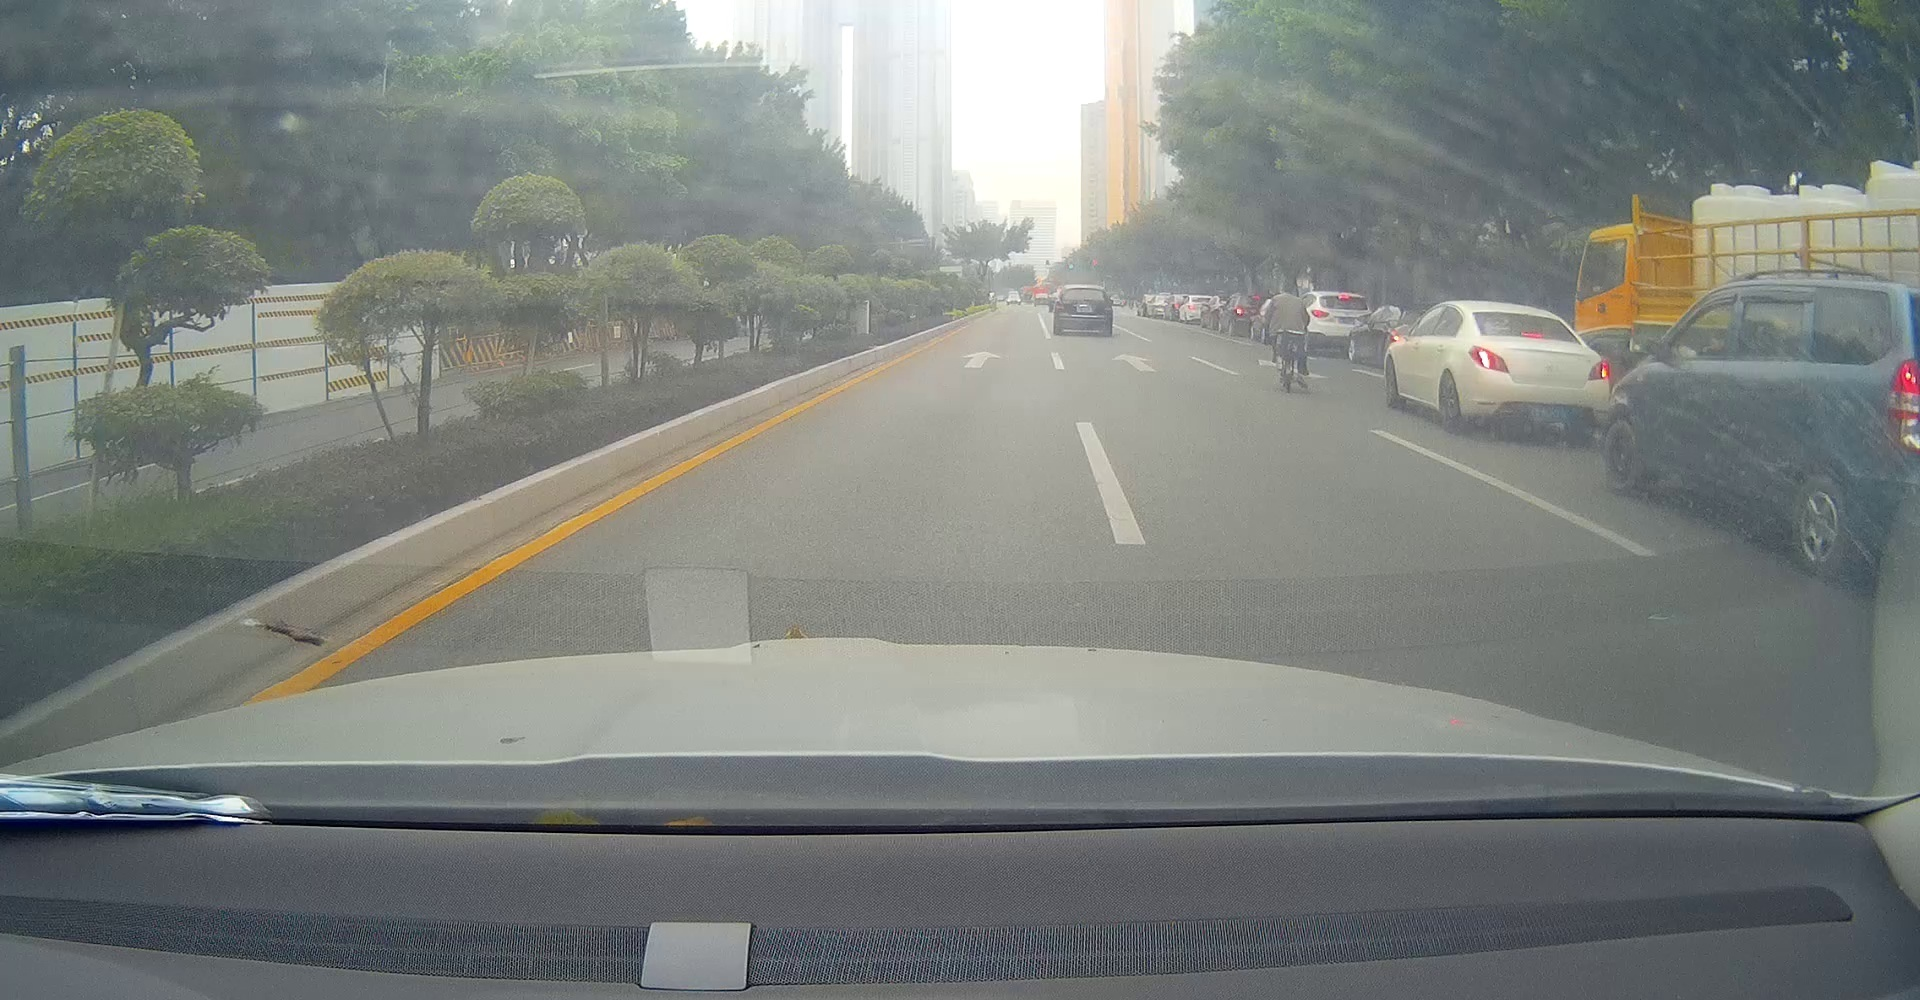L_light: (1468, 344, 1510, 376), (1051, 299, 1064, 311)
R_light: (1586, 358, 1608, 381), (1097, 303, 1111, 312)
T_light: (1521, 332, 1543, 338), (1079, 288, 1090, 291)
day-no: (1462, 299, 1610, 443), (1051, 286, 1112, 338)
